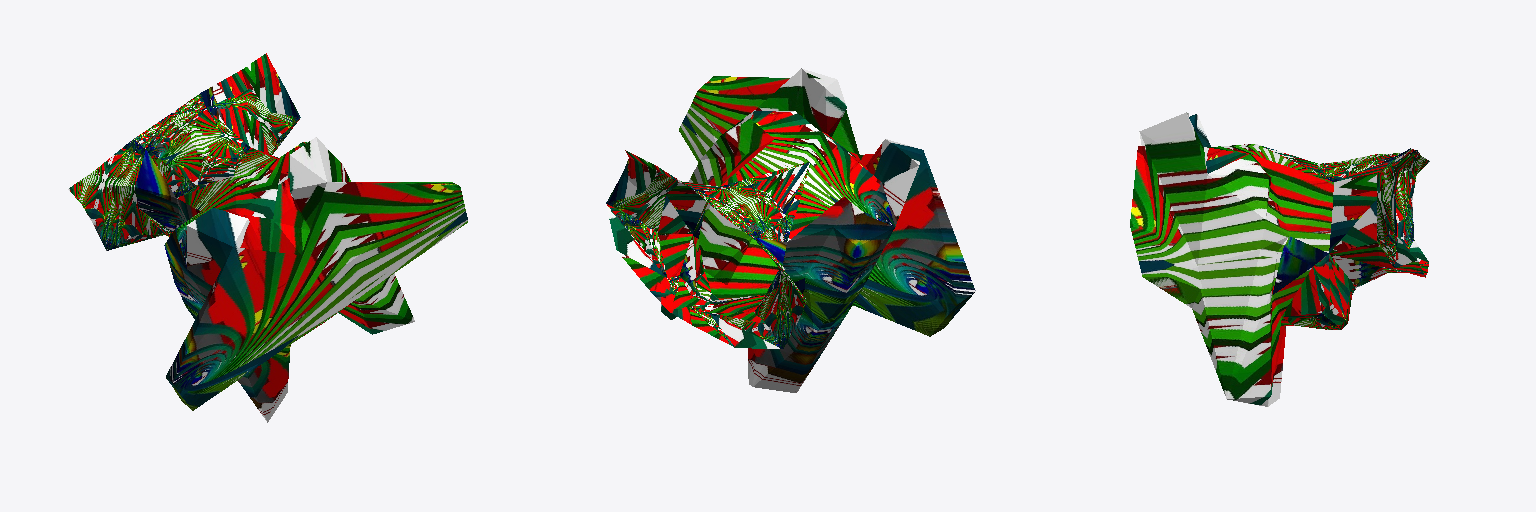
3 views of the same model, side by side, from view 1: azimuth 30°, elevation 25°; view 2: azimuth 150°, elevation 25°; view 3: azimuth 270°, elevation 25° (orthographic).
Visible parts, largest first — view 1: Object.1; view 2: Object.1; view 3: Object.1.
Part boxes in pixels (bbox=[...]): Object.1: bbox=[68, 53, 467, 422]; Object.1: bbox=[606, 68, 975, 392]; Object.1: bbox=[1130, 112, 1429, 406].
Bounding box in the file's own units: 62.61 × 61.76 × 55.99.
Materials: 1 (1 with a texture image).